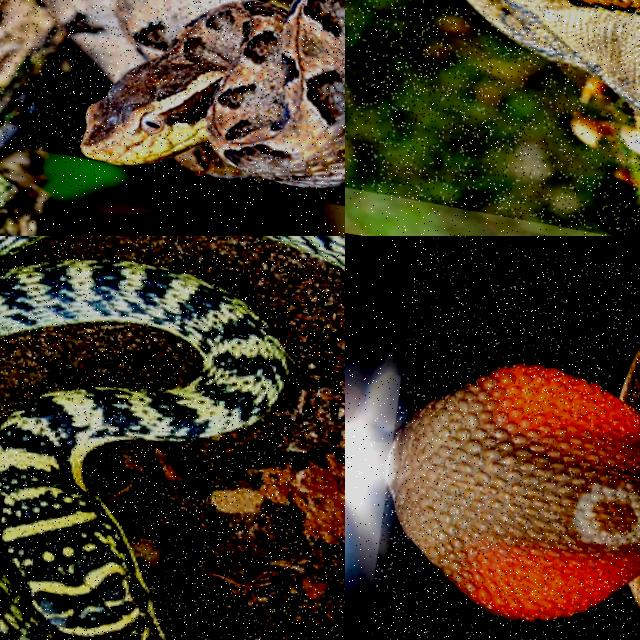Calloselasma rhodostoma: (39, 0, 344, 186)
Chrysopelea ornata: (0, 252, 285, 639)
Malayopython reticulatus: (468, 0, 639, 114)
Naja kaouthia: (389, 350, 639, 619)
snake: (0, 252, 285, 639), (389, 350, 639, 619), (39, 0, 344, 186), (468, 0, 639, 114)
